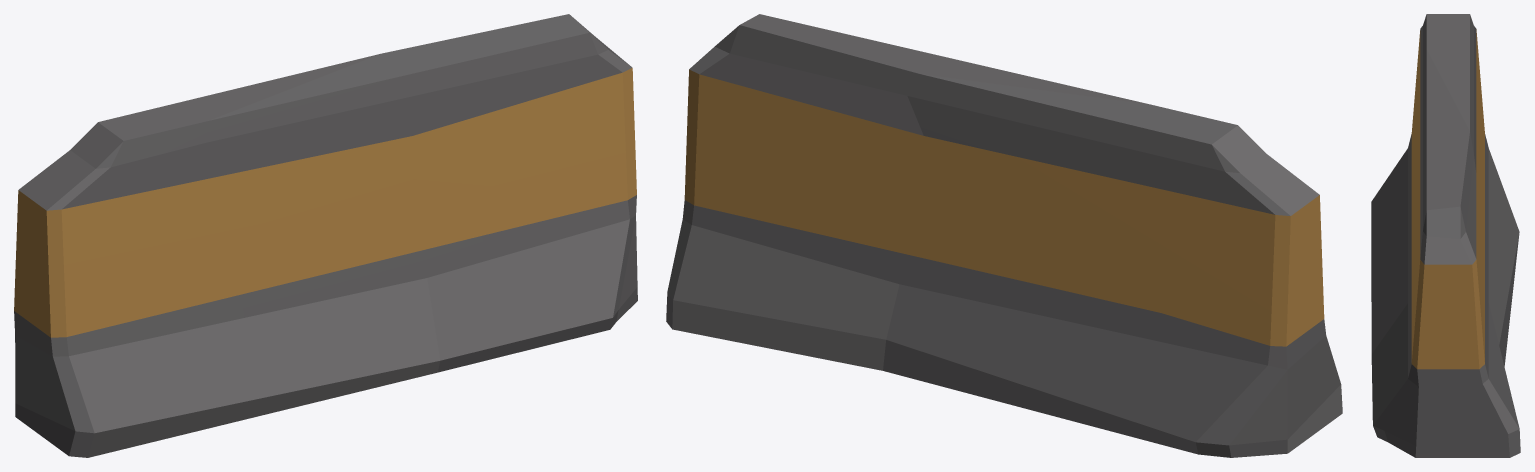
The model's file is apoc_SM_Prop_Barrier_Concrete_02.gltf.
3 views of the same model, side by side, from view 1: azimuth 30°, elevation 25°; view 2: azimuth 150°, elevation 25°; view 3: azimuth 270°, elevation 25° (orthographic). The views are drawn at different scales.
Parts seen in each view (by area): view 1: SM_Prop_Barrier_Concrete_02; view 2: SM_Prop_Barrier_Concrete_02; view 3: SM_Prop_Barrier_Concrete_02.
Part boxes in pixels (box(x1,y1,x2,y2)): SM_Prop_Barrier_Concrete_02: box(14, 14, 637, 457); SM_Prop_Barrier_Concrete_02: box(666, 14, 1342, 457); SM_Prop_Barrier_Concrete_02: box(1371, 14, 1520, 457).
Size of the model in its own units: 1.99 by 0.905 by 0.5217.
Materials: 1 (1 with a texture image).
